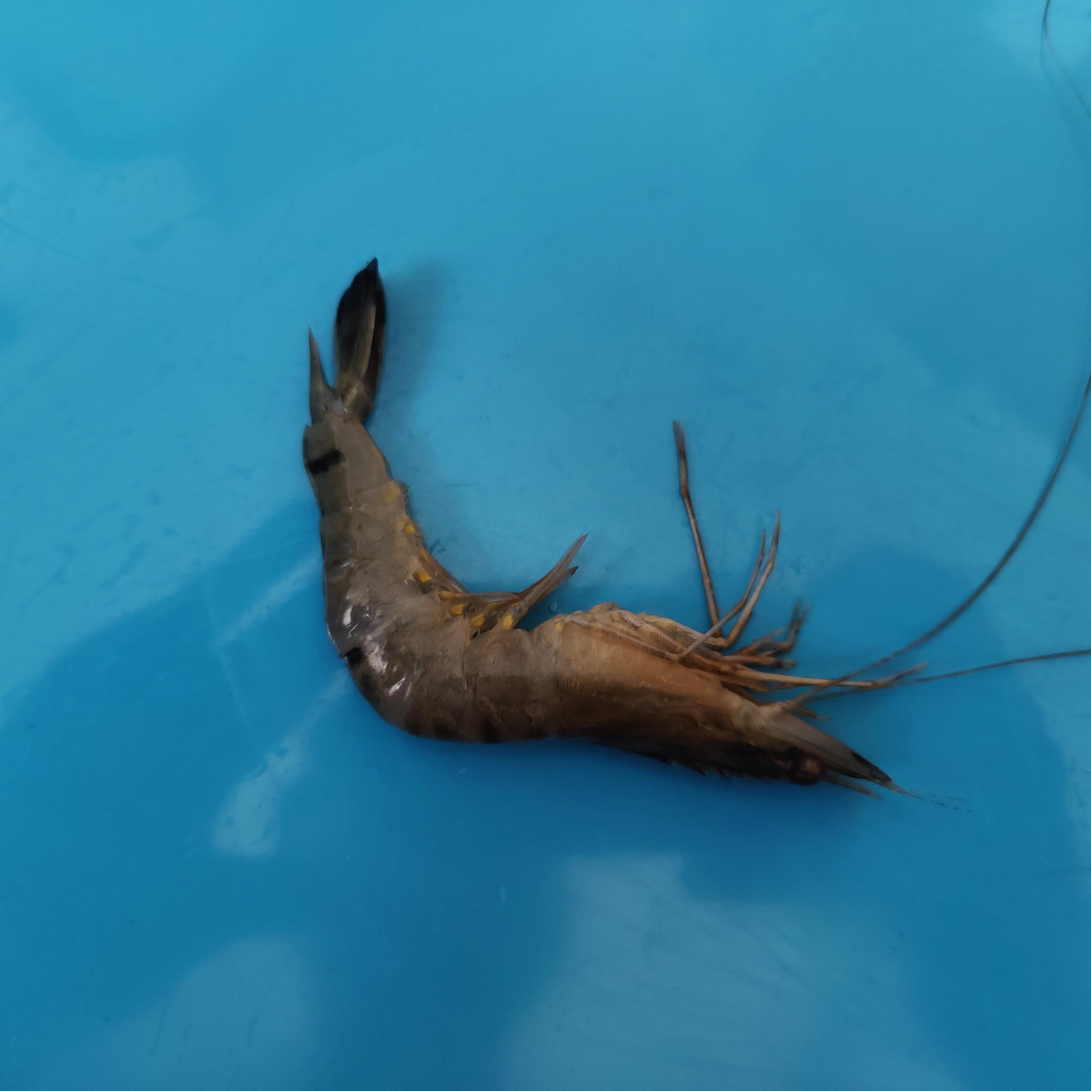whitespot: (420, 581, 730, 743)
